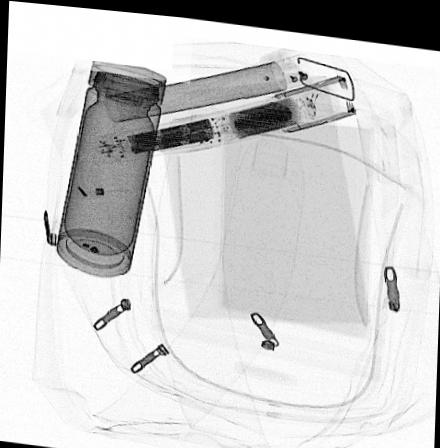Baton: (94, 66, 358, 163)
